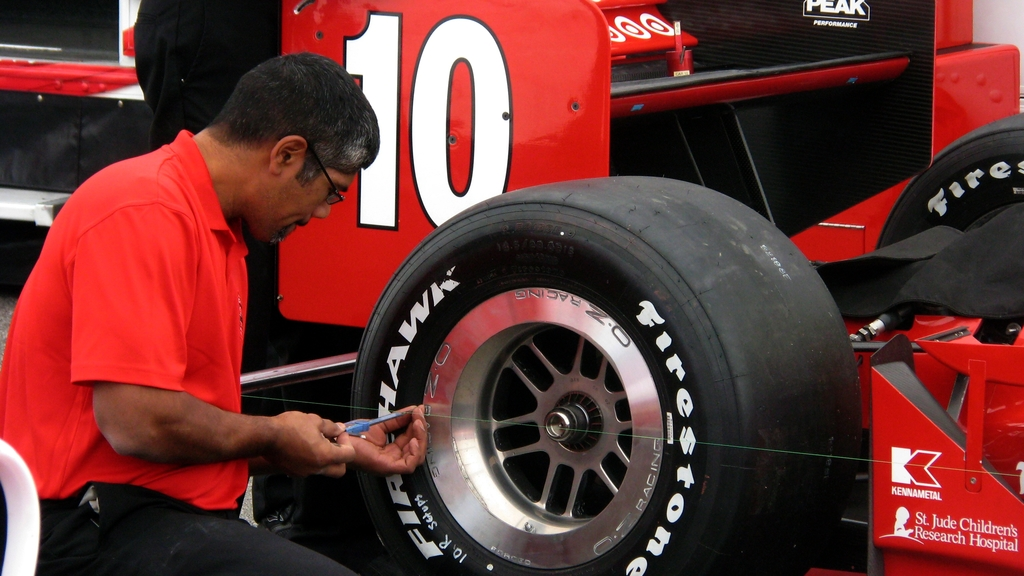Person: (0, 51, 427, 576)
